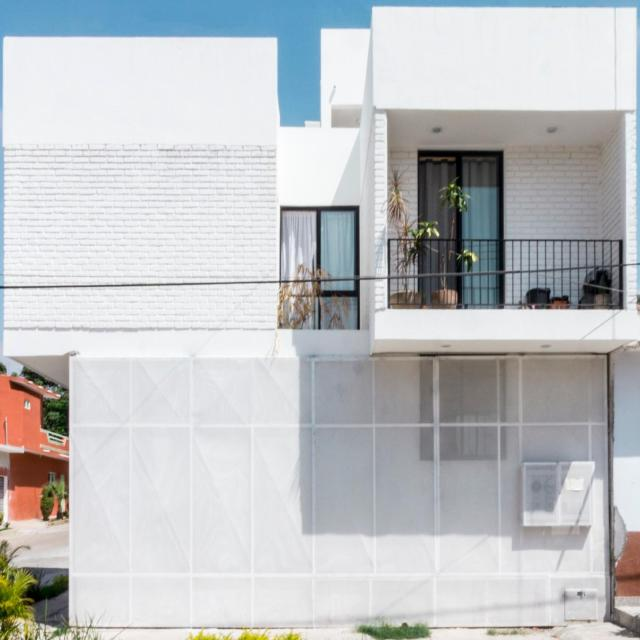railing: (387, 236, 625, 311)
window: (278, 204, 363, 332), (417, 147, 508, 235)
